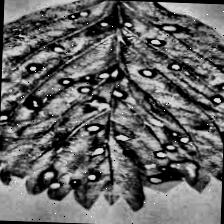Leaf Spot: (0, 0, 224, 216)
